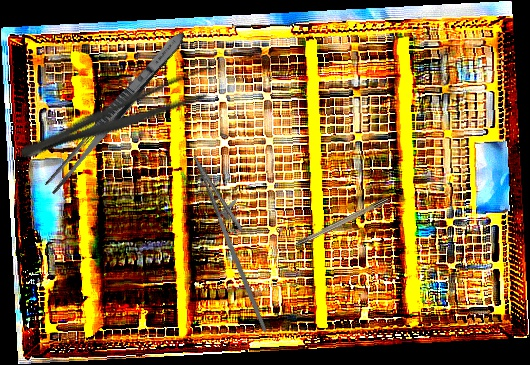Dressing Forceps: (41, 25, 191, 199), (14, 60, 222, 172)
Hook Surgical: (278, 197, 390, 255)
Needle Holder: (172, 148, 300, 333)
